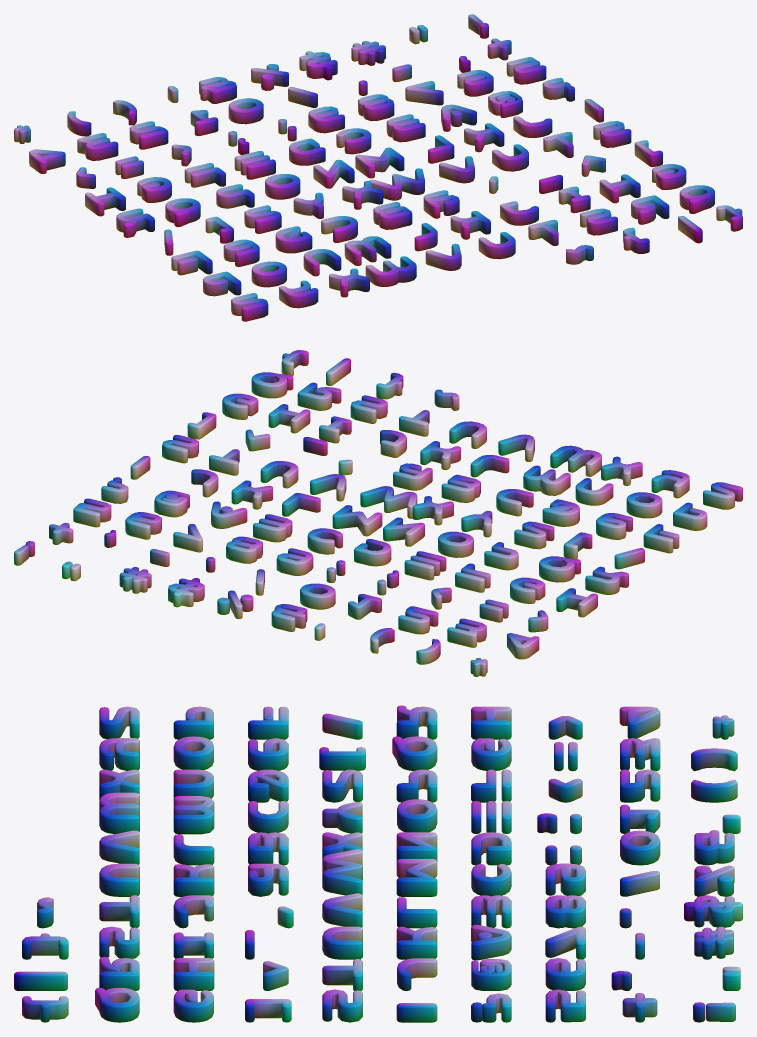
The model's file is VarinoTatting.fbx.
The picture shows the model from 3 angles, top to bottom: view 1: azimuth 30°, elevation 25°; view 2: azimuth 150°, elevation 25°; view 3: azimuth 270°, elevation 25°; orthographic projection. The views are drawn at different scales.
Parts seen in each view (by area): view 1: w, m, W, M, E, 3, b, $, 5, B, 2, & (+59 smaller); view 2: w, W, m, M, q, Q, r, E, R, b, B, 2 (+57 smaller); view 3: W, w, m, M, $, Q, q, H, h, k, K, U (+72 smaller).
Part boxes in pixels (bbox=[...]): w: bbox=[365, 256, 416, 286]; m: bbox=[344, 236, 391, 265]; W: bbox=[369, 168, 424, 200]; M: bbox=[355, 147, 404, 178]; E: bbox=[234, 151, 275, 179]; 3: bbox=[77, 133, 118, 160]; b: bbox=[373, 202, 412, 229]; $: bbox=[299, 51, 337, 80]; 5: bbox=[506, 57, 546, 84]; B: bbox=[386, 114, 425, 142]; 2: bbox=[129, 121, 168, 149]; &: bbox=[199, 77, 236, 103]; w: bbox=[550, 445, 601, 476]; W: bbox=[360, 486, 417, 518]; m: bbox=[523, 465, 570, 495]; M: bbox=[332, 505, 382, 536]; q: bbox=[251, 372, 293, 398]; Q: bbox=[539, 556, 580, 582]; r: bbox=[297, 382, 341, 410]; E: bbox=[404, 551, 446, 580]; R: bbox=[585, 566, 628, 594]; b: bbox=[441, 474, 480, 502]; B: bbox=[253, 514, 292, 542]; 2: bbox=[398, 606, 438, 634]; W: bbox=[322, 849, 362, 895]; w: bbox=[99, 792, 139, 833]; m: bbox=[173, 796, 214, 834]; M: bbox=[396, 859, 437, 896]; $: bbox=[684, 895, 742, 927]; Q: bbox=[392, 736, 437, 770]; q: bbox=[95, 987, 139, 1022]; H: bbox=[471, 706, 511, 739]; h: bbox=[173, 958, 214, 990]; k: bbox=[173, 864, 214, 896]; K: bbox=[396, 926, 437, 959]; U: bbox=[322, 926, 362, 959].
Bounding box in the file's own units: 961 × 24.6 × 981.
